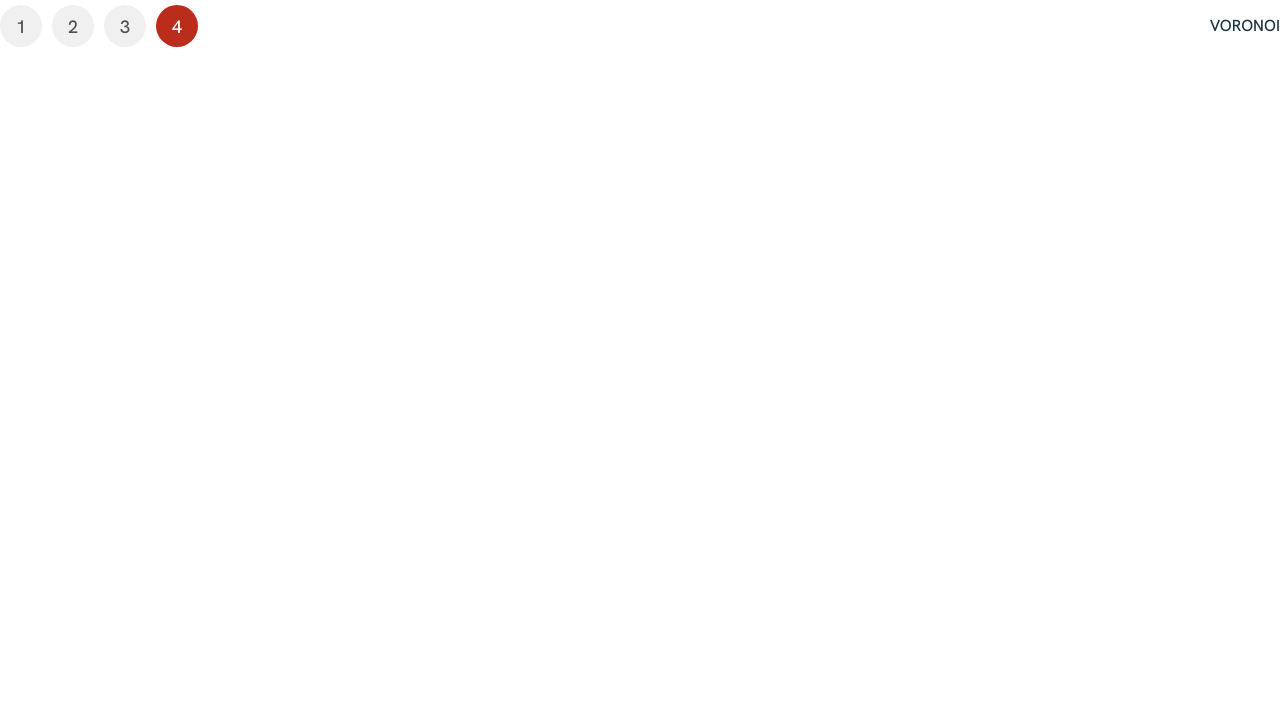
Test case: ShapeTypeSelector › updates shape type to triangle on button 2 click
The width and height of the screenshot is (1280, 720).
Click the button with test id "button-2".
click(73, 26)  # box left=52, top=5, right=94, bottom=47
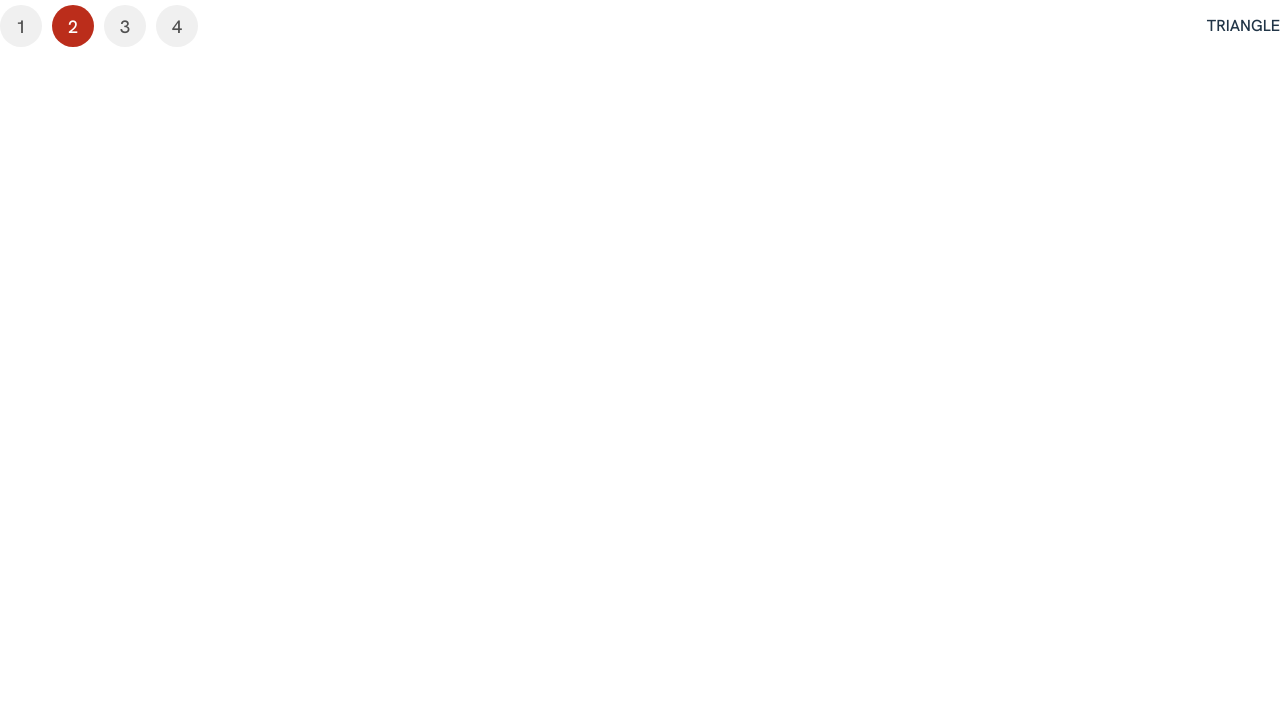
Now the text with class "shape-type" reads "triangle", box left=1207, top=15, right=1279, bottom=36
